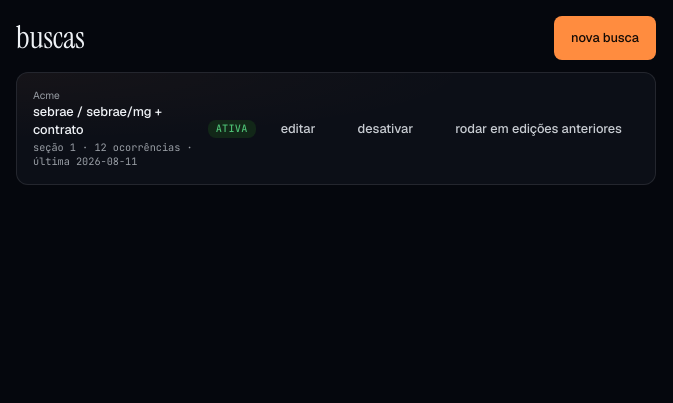
Test case: clicking "Run on past editions" reveals the backfill form
What coordinates should you click on to do the following:
click the button "rodar em edições anteriores"
I would click on:
 (539, 129)
Its box is [438,107,639,151].
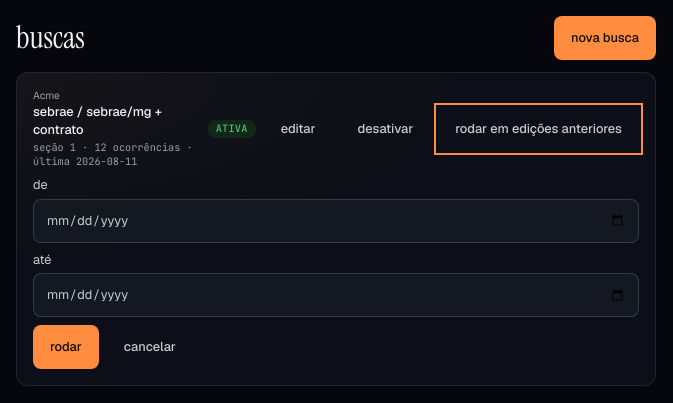
Expected: the date field labelled "de" is shown, [33,199,639,243]
